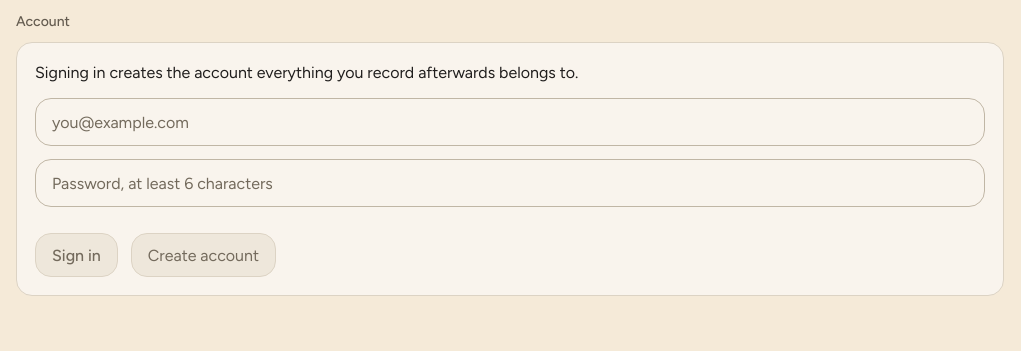
Scenario: sign-in › repeats the failure verbatim rather than summarising it
The image size is (1021, 351).
Expected: the text "Signing in creates the account" is shown, [35,63,578,82]
Type "a@example.com" into the field with placeholder "you@example.com" at (510,122), box [35,98,985,146]
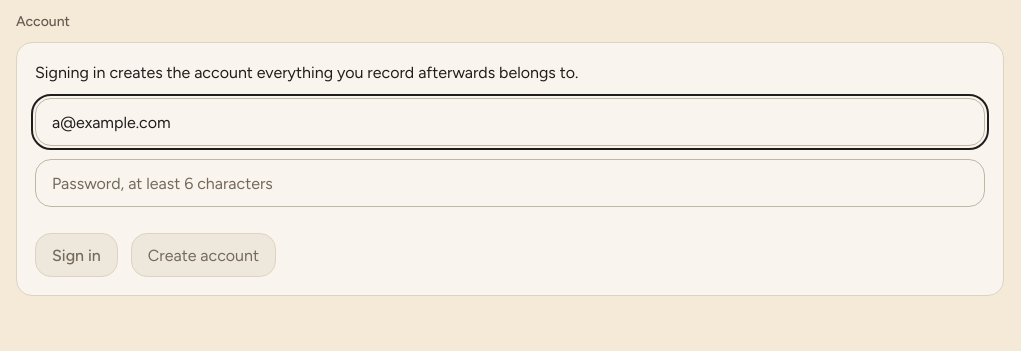
Type "hunter2" into the password field with placeholder "Password, at least 6 characters" at (510,184), box [35,160,985,208]
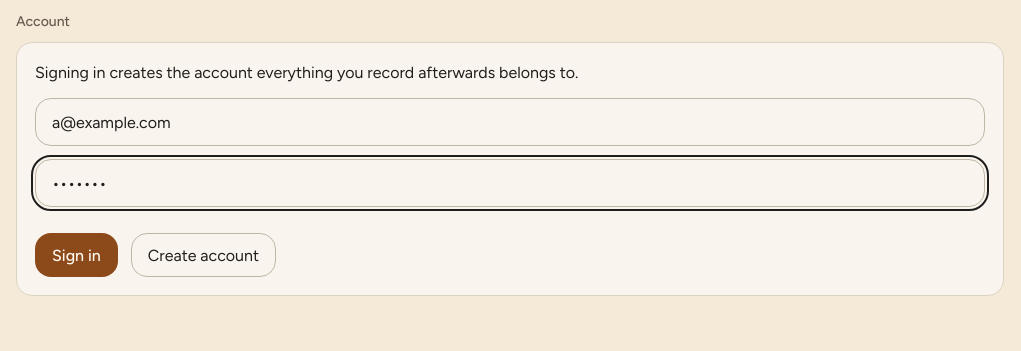
Click the button "Sign in" at (76,256), box [35,234,118,278]
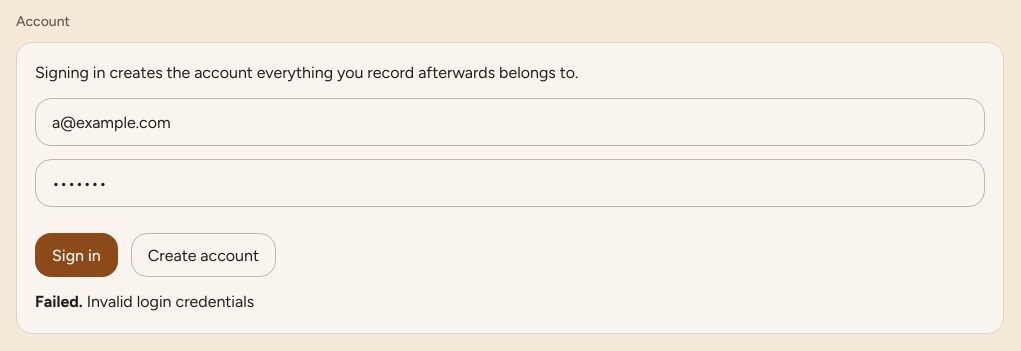
Result: the text "Invalid login credentials" is shown at [87,292,254,312]
